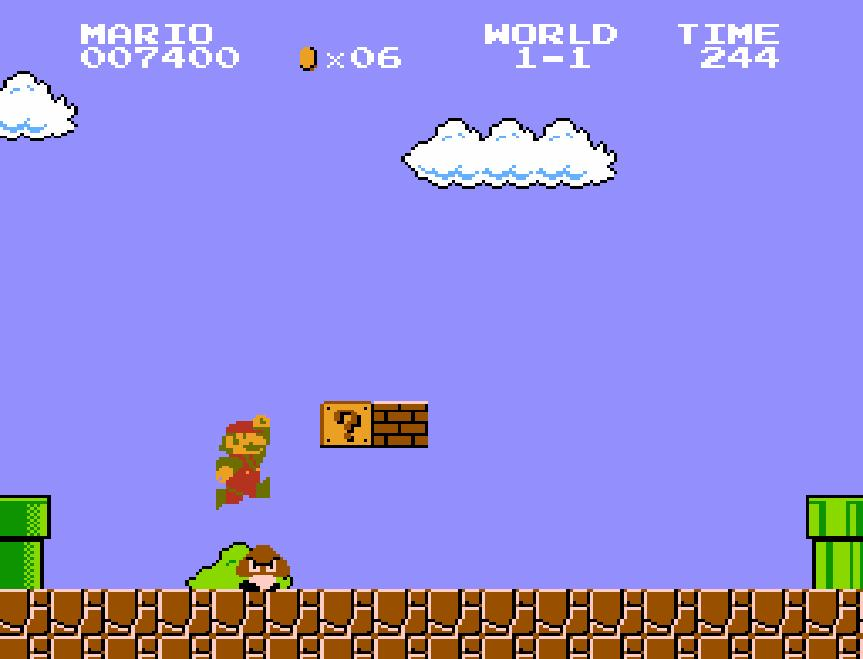big_mario: (213, 414, 271, 512)
